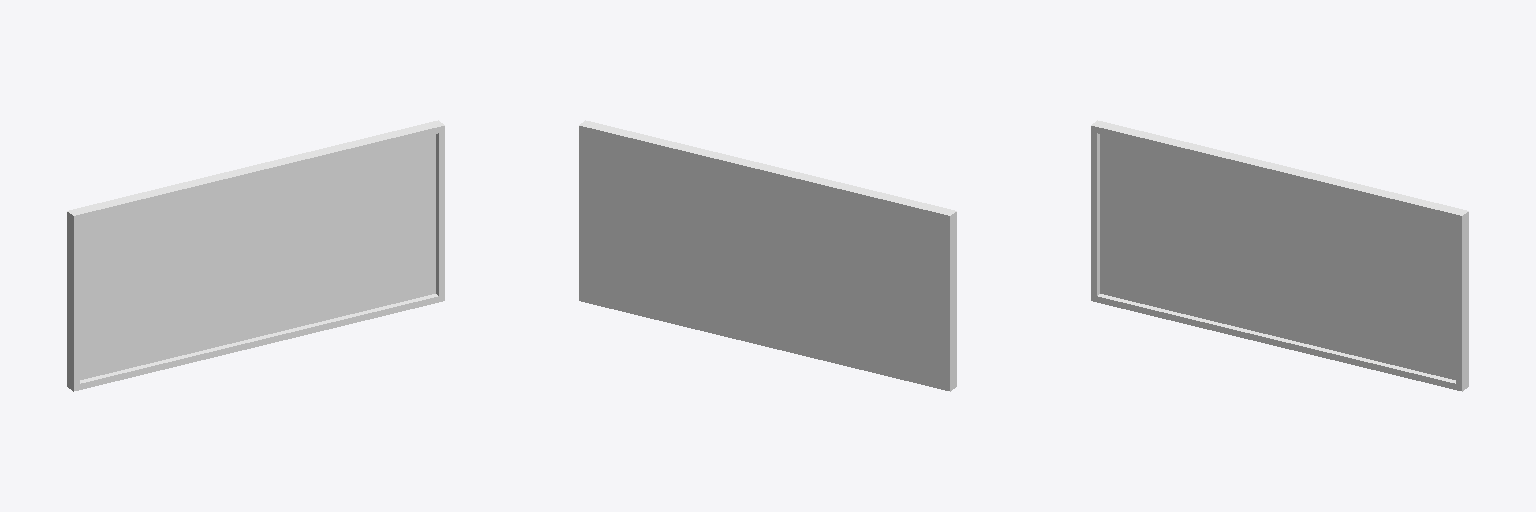
The model's file is board.obj.
3 renders of one model, left to right at view 1: azimuth 30°, elevation 25°; view 2: azimuth 150°, elevation 25°; view 3: azimuth 330°, elevation 25°, orthographic.
Visible parts, largest first — view 1: object 1; view 2: object 1; view 3: object 1.
Boxes of the visible parts, box(x1,y1,x2,y2) form: object 1: box(67, 120, 444, 391); object 1: box(579, 120, 956, 391); object 1: box(1091, 120, 1468, 391).
Bounding box in the file's own units: 6.2 × 2.8 × 0.2.